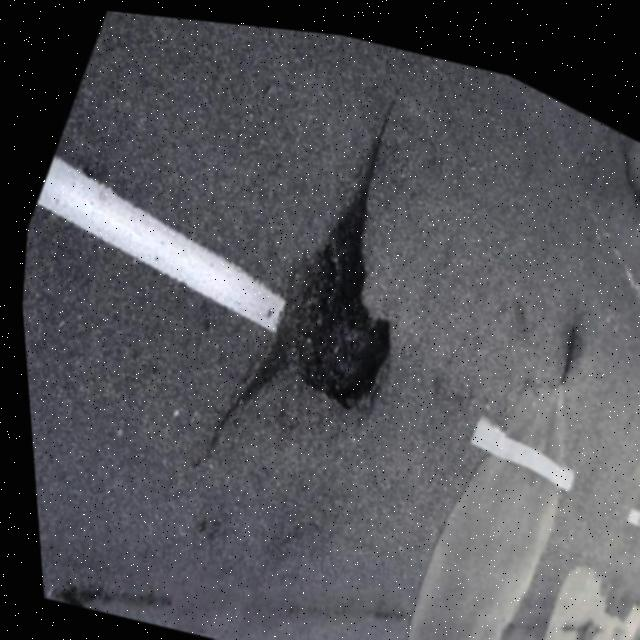Pothole: (227, 210, 437, 432), (627, 427, 640, 541)
